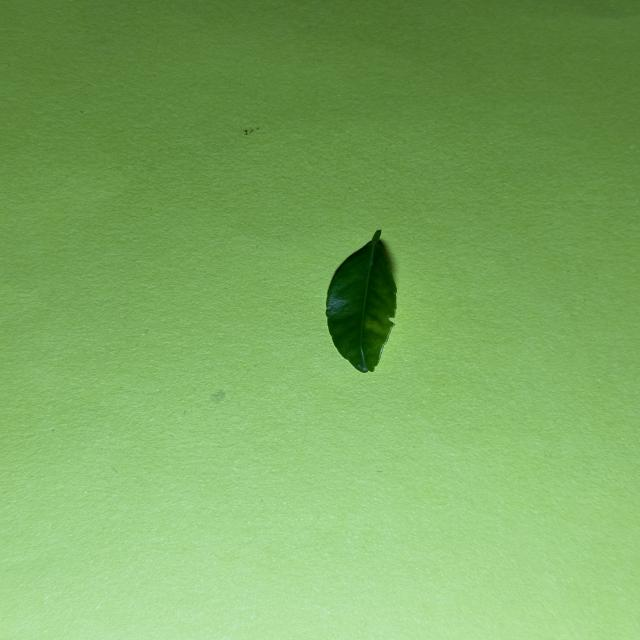greening: (326, 230, 396, 372)
